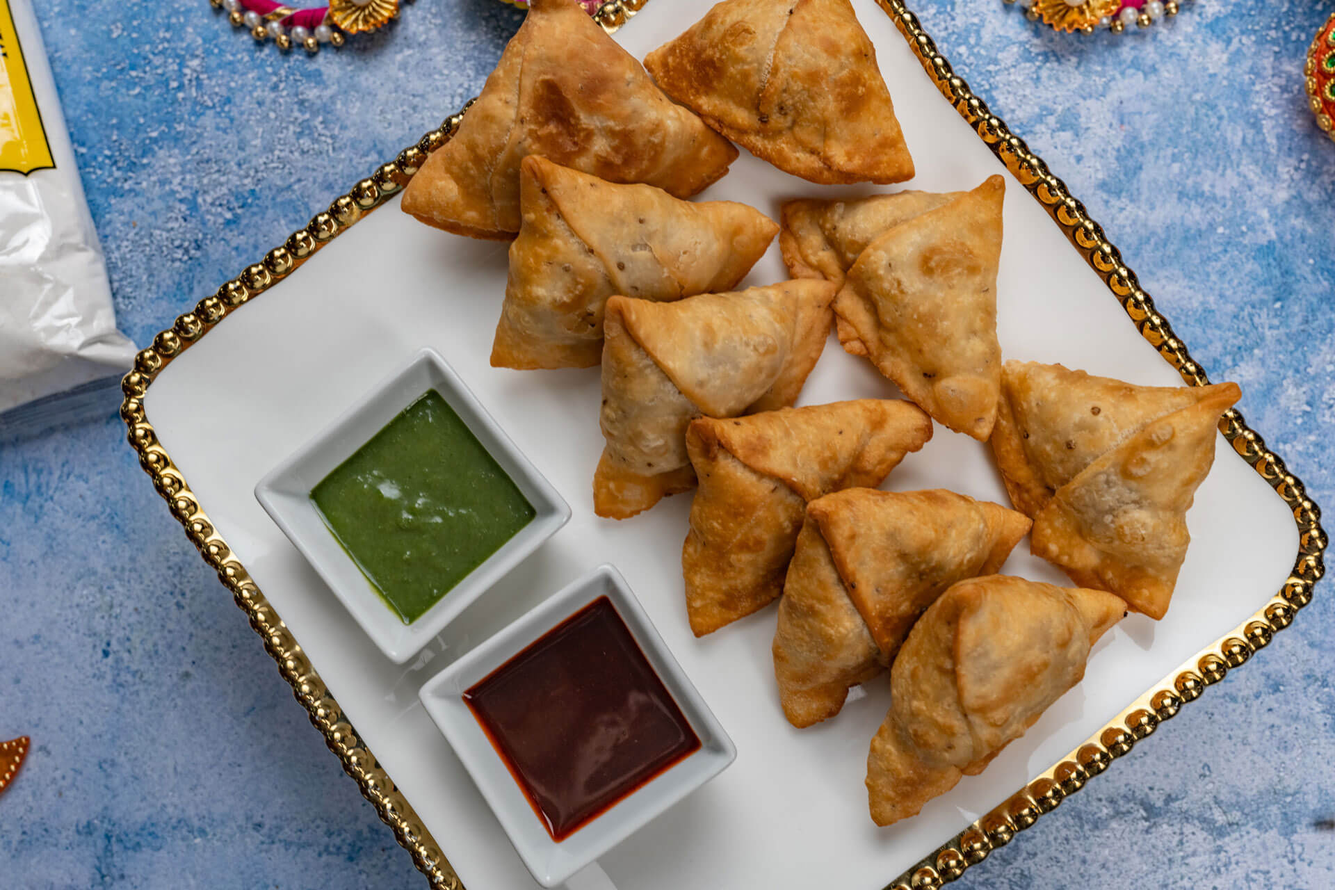samosa: (394, 7, 721, 239), (475, 151, 783, 378), (862, 575, 1119, 844), (983, 369, 1252, 617), (767, 489, 1031, 735), (786, 162, 1013, 445), (577, 278, 832, 526), (684, 401, 913, 651), (640, 0, 927, 169)
